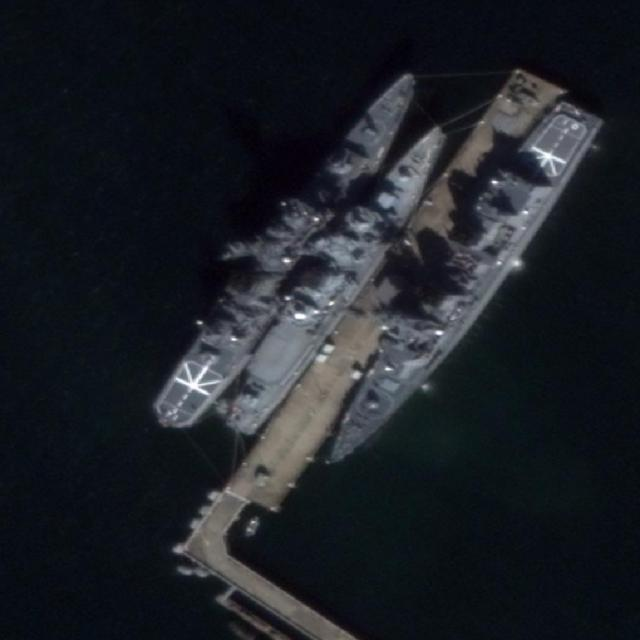Destroyer: (312, 96, 606, 481), (145, 58, 433, 442), (209, 114, 463, 442)
Dock: (221, 59, 568, 519)
